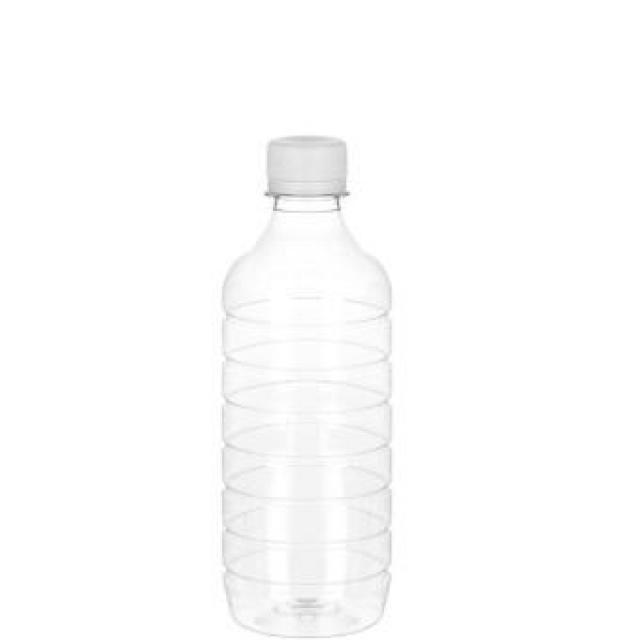bottle: (196, 108, 423, 636)
